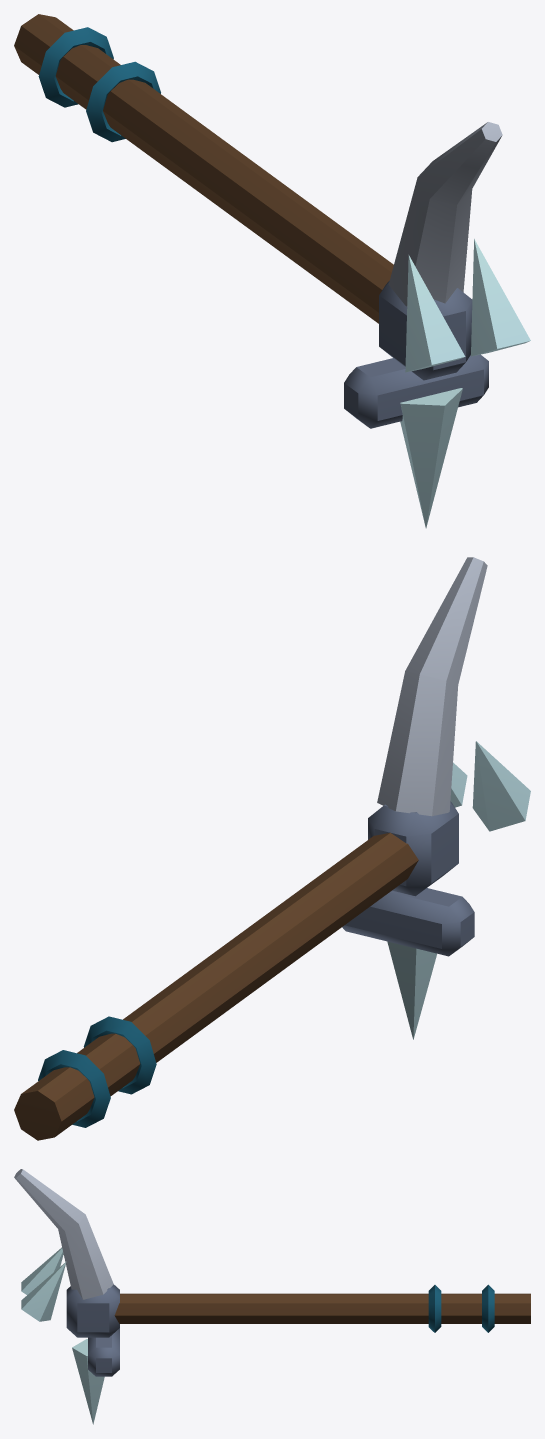
File: w_n_icebreaker.glb
3 renders of one model, top to bottom at view 1: azimuth 30°, elevation 25°; view 2: azimuth 150°, elevation 25°; view 3: azimuth 270°, elevation 25°, orthographic. The views are drawn at different scales.
Parts seen in each view (by area): view 1: body; view 2: body; view 3: body.
Boxes of the visible parts, x1=… form: body: x1=14, y1=14, x2=530, y2=528; body: x1=14, y1=557, x2=530, y2=1140; body: x1=14, y1=1169, x2=530, y2=1424.
Size of the model in its own units: 0.1551 by 0.5021 by 0.9201.
